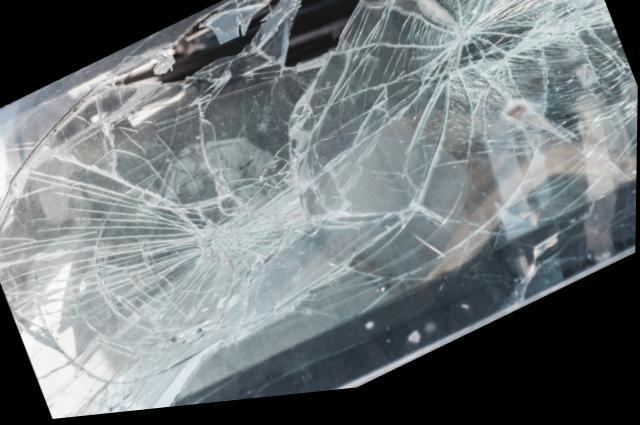glass shatter: (0, 0, 638, 420)
